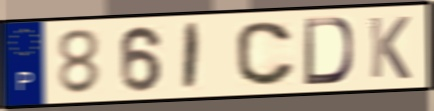6: (118, 24, 165, 95)
8: (55, 27, 103, 96)
C: (233, 19, 298, 88)
D: (301, 16, 356, 87)
I: (180, 21, 203, 93)
K: (367, 14, 413, 81)
